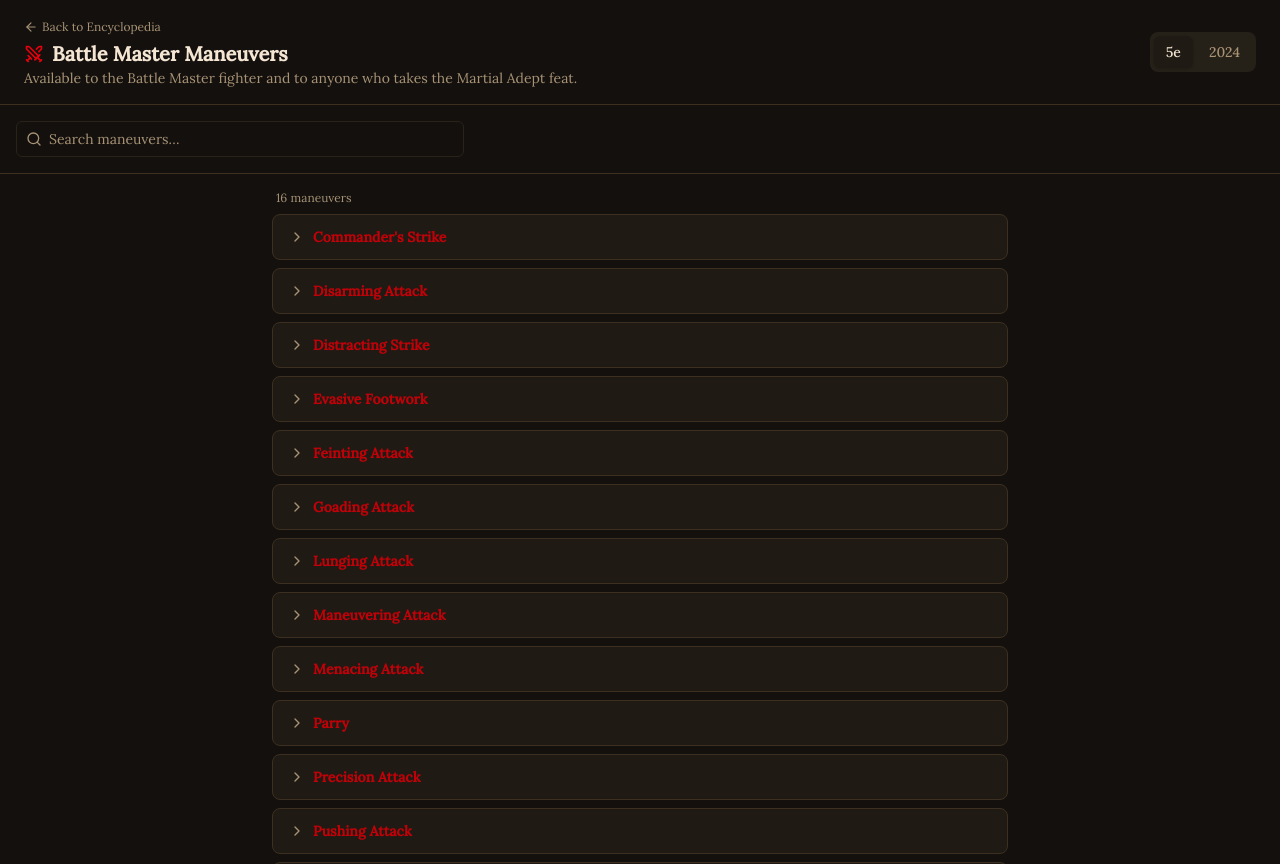
ManeuversPage › shows an empty state when nothing matches
Step 1. Type "zzzzz" into the field with test id "maneuvers-search" → (240, 139), box 16,121 -> 464,157
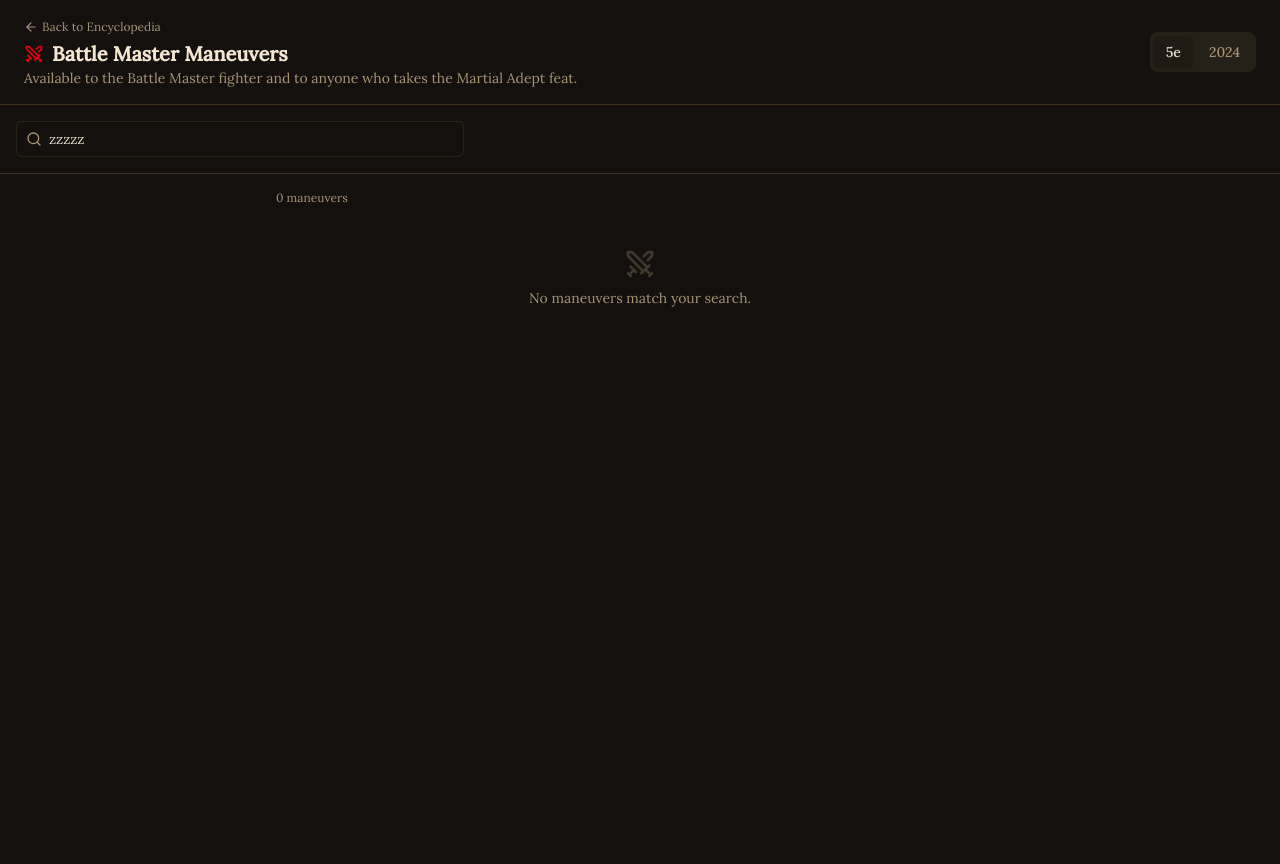
Now the text "No maneuvers match your search." is shown, box 529,288 -> 751,308
